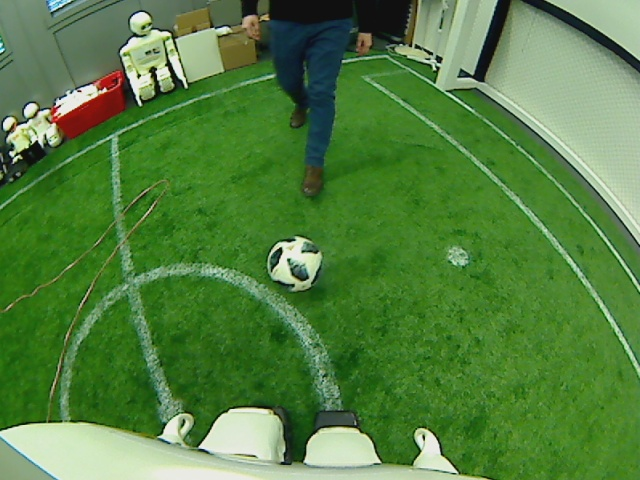ball: (265, 233, 323, 291)
